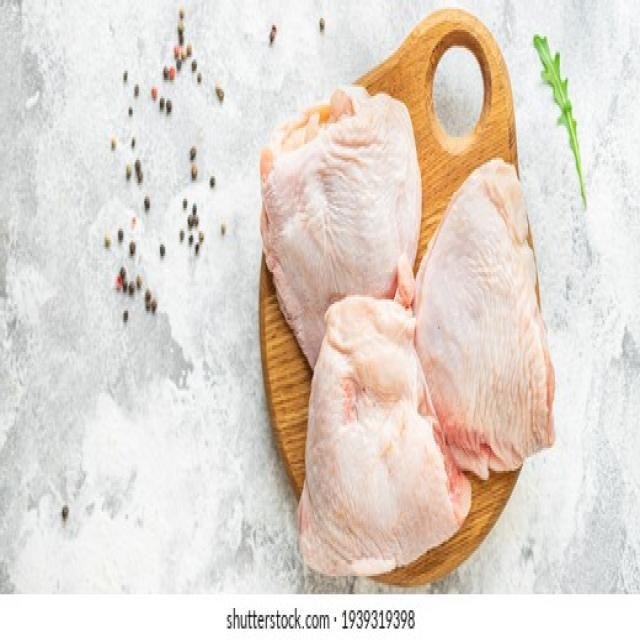thigh: (250, 71, 431, 368), (276, 316, 472, 581), (414, 172, 538, 466)
